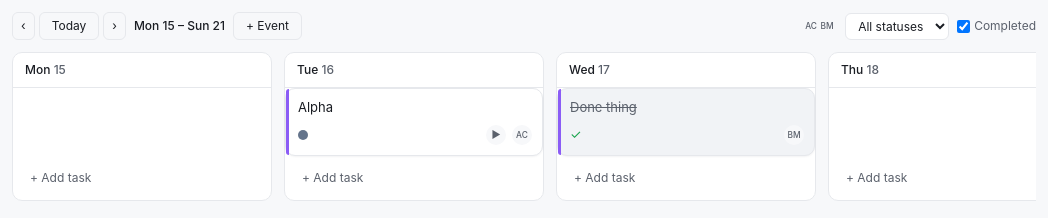
Test: CalendarView › hides completed tasks when the filter is toggled off
Expected: the button "Done thing" is shown, [570, 99, 804, 117]
Click the checkbox labelled "Completed": click(964, 26) [957, 20, 970, 32]
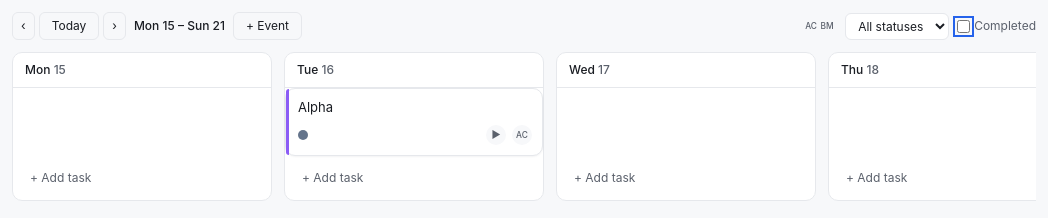
Expected: the button "Alpha" is shown, [298, 99, 532, 117]
Expected: the button "Done thing" is gone
